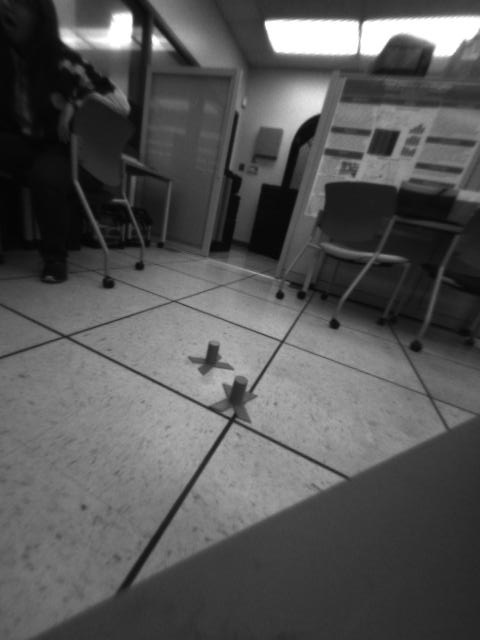X: (209, 375, 257, 423), (188, 339, 239, 378)
